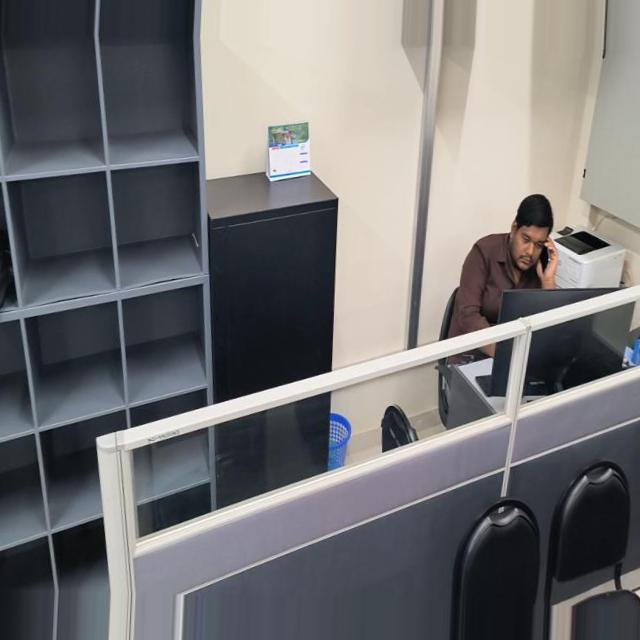Chair: (0, 472, 96, 639), (104, 517, 184, 639), (222, 415, 258, 469), (195, 360, 210, 437), (192, 279, 207, 339)
Keyboard: (154, 378, 171, 402)
Monitor: (24, 290, 125, 399), (38, 273, 152, 318), (137, 336, 159, 401)
